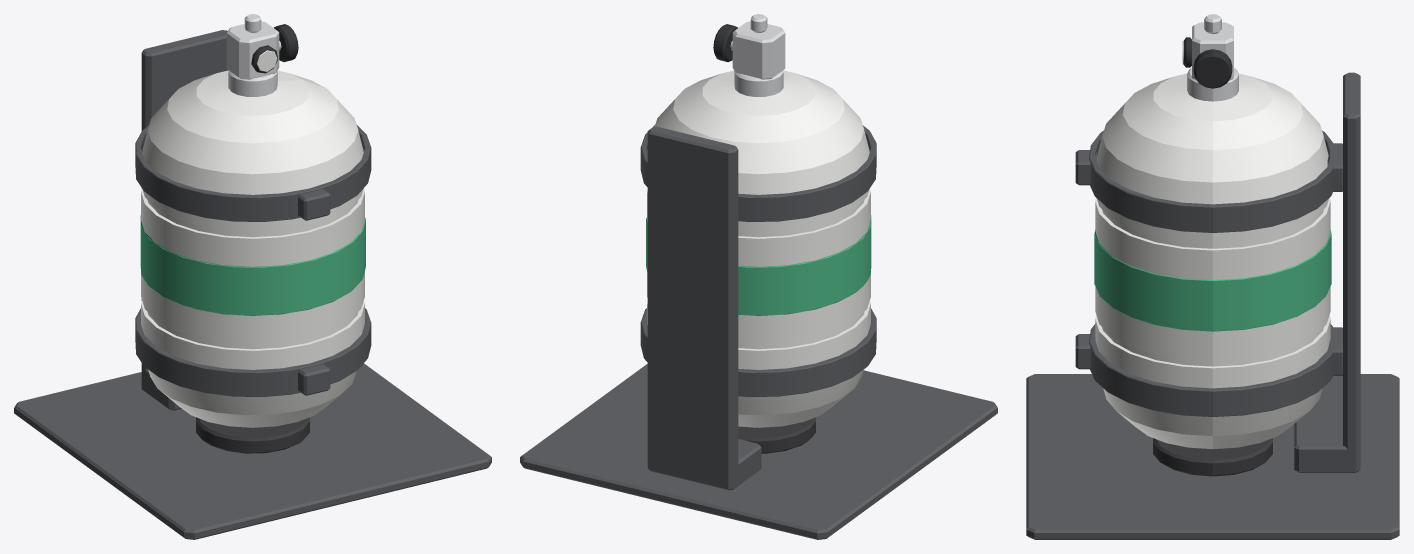
The model's file is eqm09_o2_tank.glb.
3 renders of one model, left to right at view 1: azimuth 30°, elevation 25°; view 2: azimuth 150°, elevation 25°; view 3: azimuth 270°, elevation 25°, orthographic. The views are drawn at different scales.
Parts seen in each view (by area): view 1: eqm09_bracket, eqm09_tank, eqm09_valve; view 2: eqm09_bracket, eqm09_tank, eqm09_valve; view 3: eqm09_bracket, eqm09_tank, eqm09_valve.
Part boxes in pixels (bbox=[...]): eqm09_bracket: bbox=[14, 30, 491, 539]; eqm09_tank: bbox=[140, 70, 365, 427]; eqm09_valve: bbox=[226, 21, 298, 96]; eqm09_bracket: bbox=[520, 125, 997, 539]; eqm09_tank: bbox=[646, 70, 871, 427]; eqm09_valve: bbox=[713, 21, 785, 96]; eqm09_bracket: bbox=[1026, 72, 1399, 539]; eqm09_tank: bbox=[1094, 73, 1331, 449]; eqm09_valve: bbox=[1182, 22, 1238, 101].
Size of the model in its own units: 0.46 by 0.605 by 0.46.
